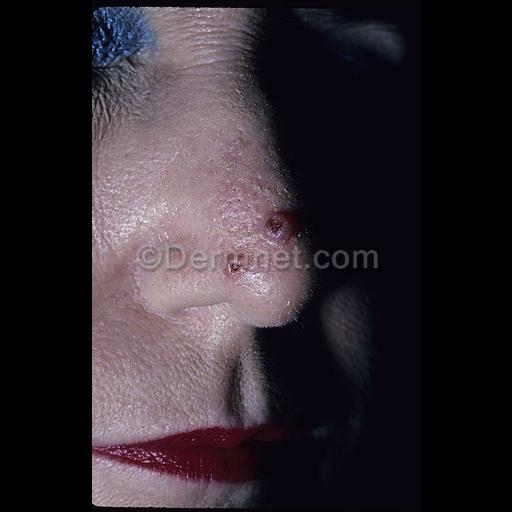Skin_Lesion: (233, 200, 311, 252), (218, 251, 256, 285)
